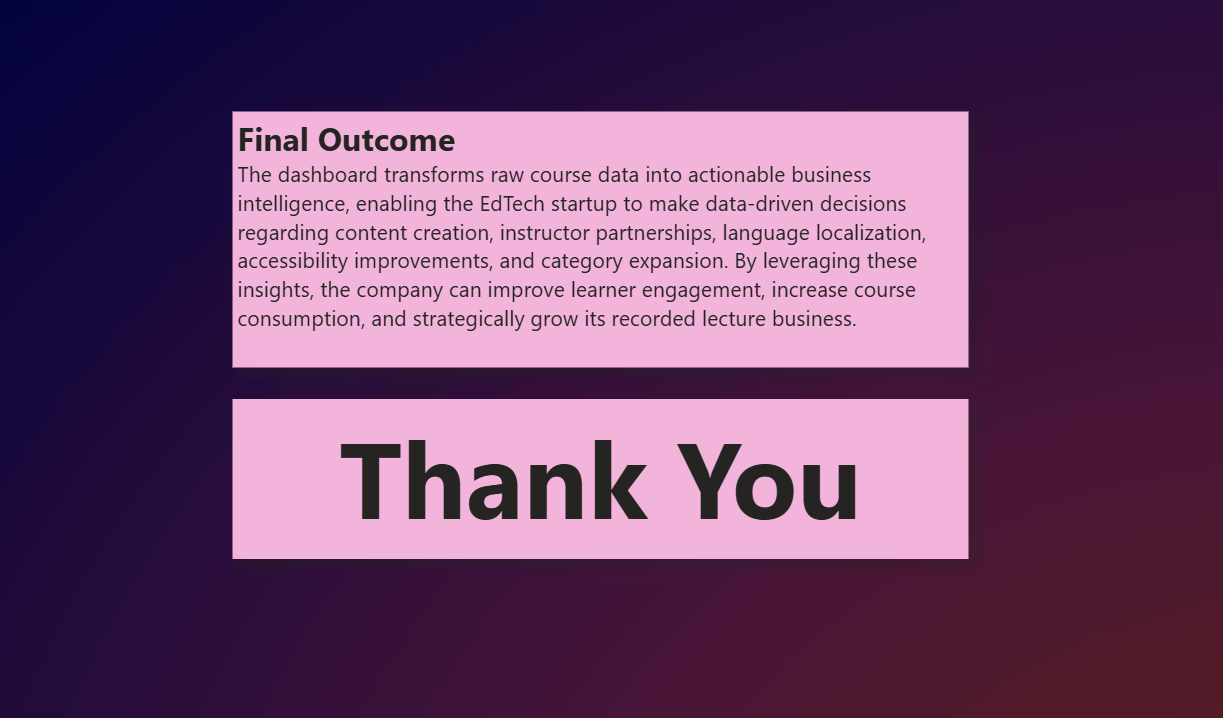

The page's visual inventory and layout, read from the dashboard file:
{"tool":"powerbi","page":{"name":"Final Conclusion","canvas":[1280,720],"ordinal":11},"visuals":[{"type":"textbox","box":[10,0,280,280],"z":0},{"type":"textbox","box":[0,0,1280,720],"z":1000}]}

Visuals, with their boxes on the page's 1280x720 design canvas (x1, y1, x2, y2). These are canvas units, not pixel positions in the 1223x718 screenshot, which may show the page scaled, cropped or inside an application window:
textbox: crop(10, 0, 290, 280)
textbox: crop(0, 0, 1280, 720)
